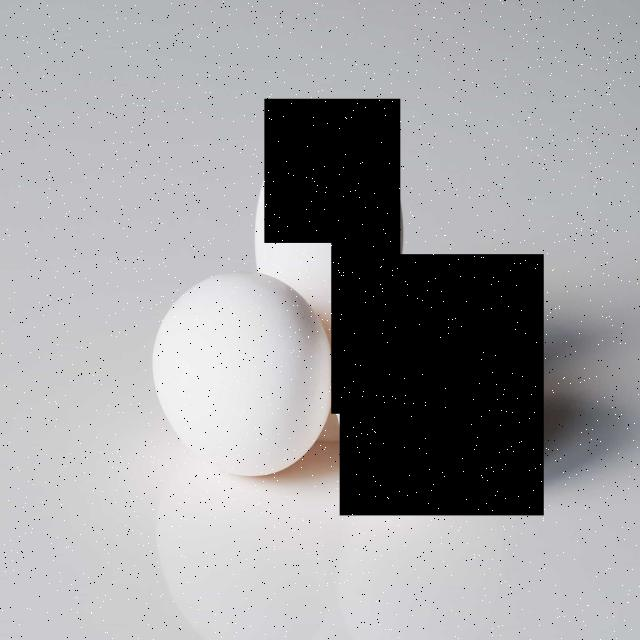Egg: (340, 254, 544, 516), (115, 244, 331, 482), (264, 99, 400, 414)
